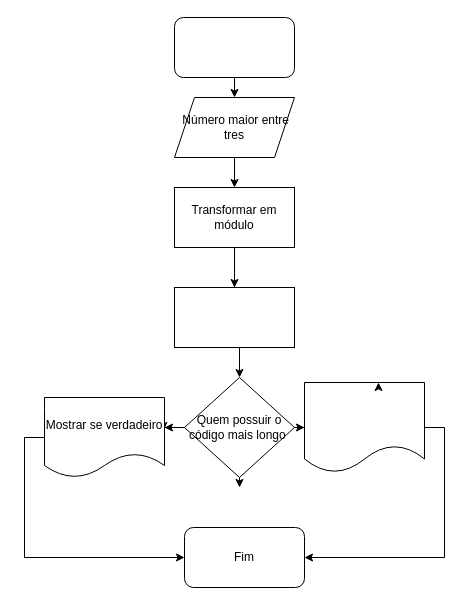
This 470x605 diagram has some shape labels left out. Here are the shapes that lost their labels. From the top down, the centre of each, then its label:
At point 234,47: "início".
At point 234,317: "Dividir por zero até 1 em código binário".
At point 364,427: "Não mostrar se falso".
